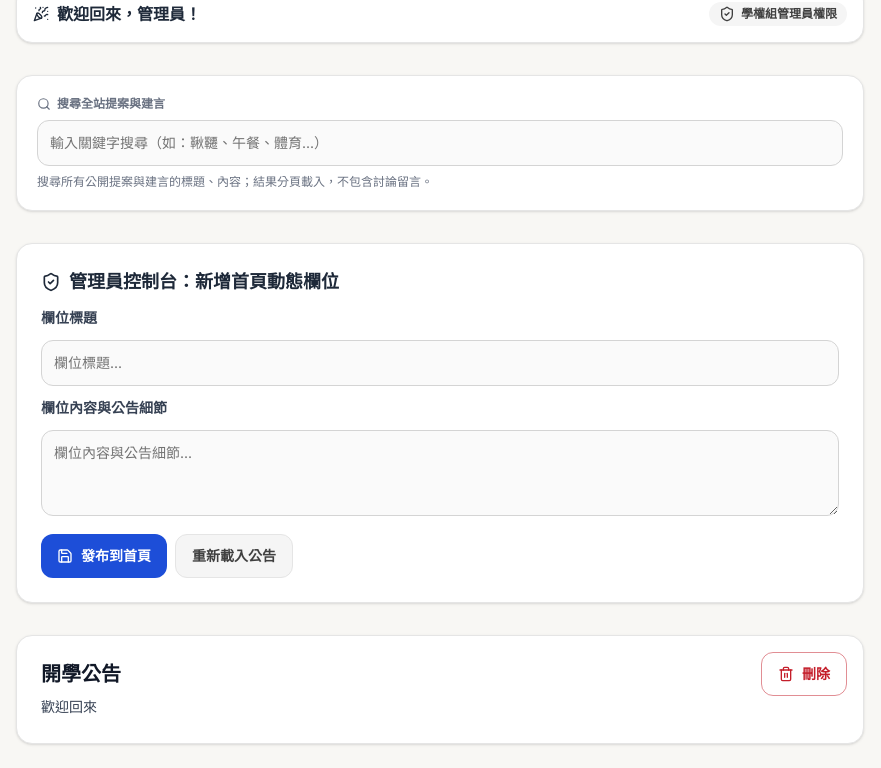
Scenario: reports a denied or zero-row announcement delete without success fiction
(page scrolled)
Expected: the heading "開學公告" is shown, x1=41 y1=662 x2=121 y2=686
Click the button "刪除" at (804, 674), box x1=761 y1=652 x2=847 y2=696
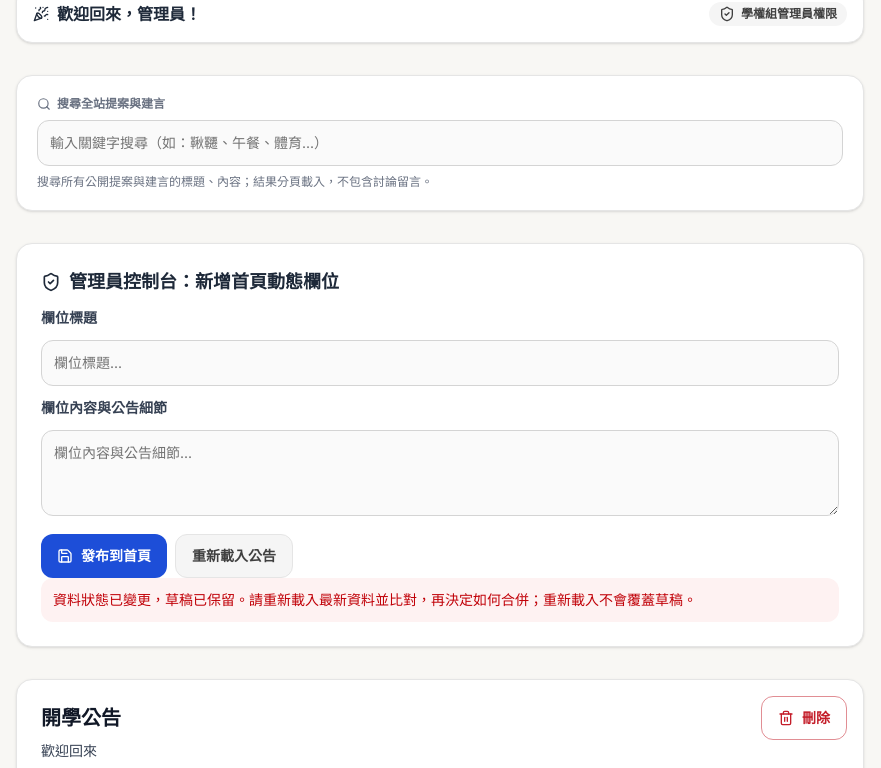
Expected: the heading "開學公告" is shown, x1=41 y1=706 x2=121 y2=730
Expected: the text "資料狀態已變更，草稿已保留。請重新載入最新資料並比對，再決定如何合併；重新載入不會覆蓋草稿。" is shown, x1=41 y1=578 x2=839 y2=622
